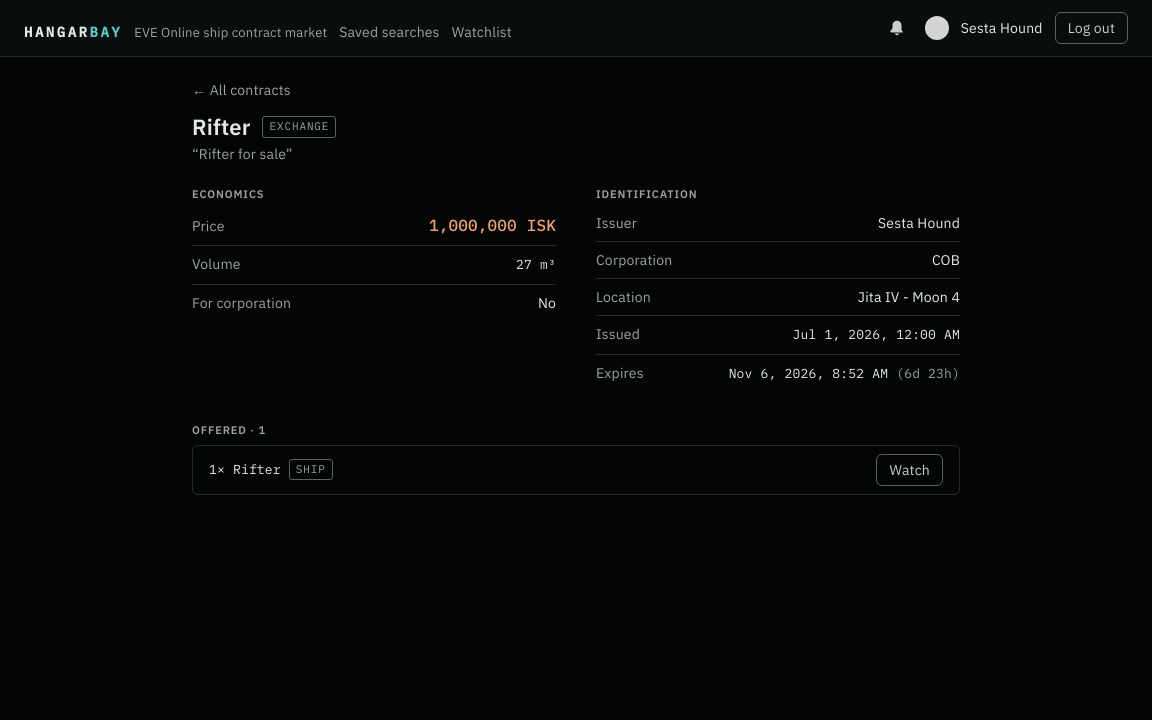
Test case: WatchButton › shows "already watching" on a 409
Click the button "Watch": (910, 470) [876, 454, 943, 486]
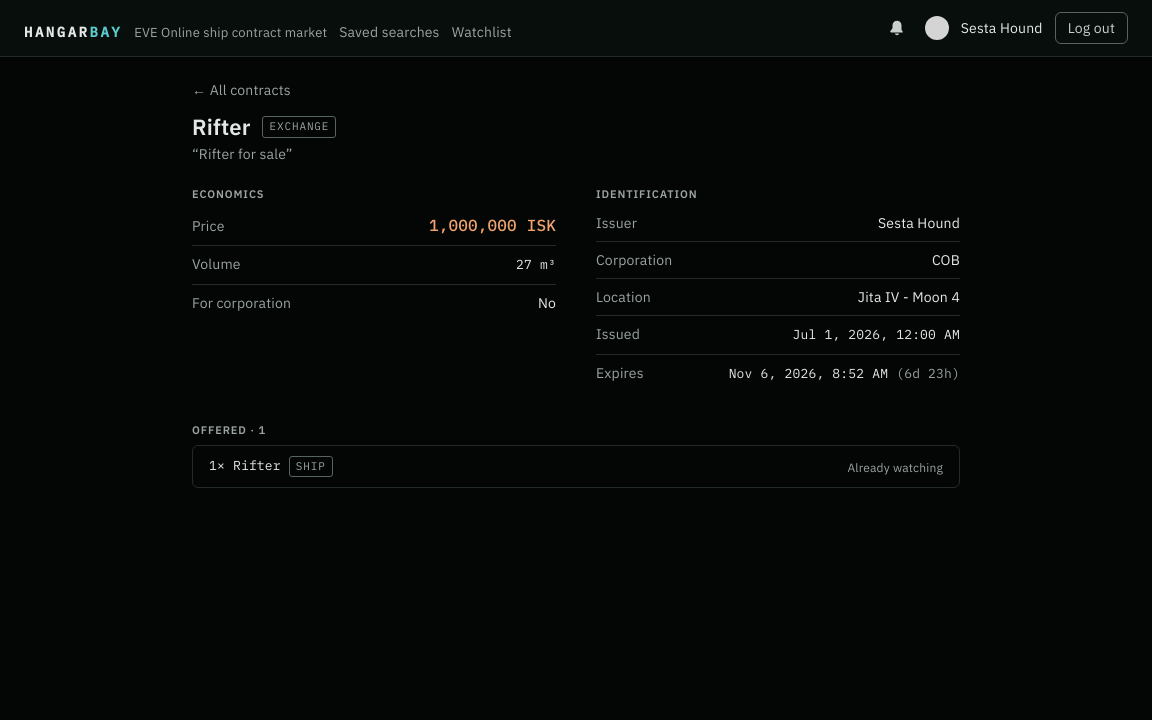
Now the text "Already watching" is shown, box [847, 460, 943, 475]
